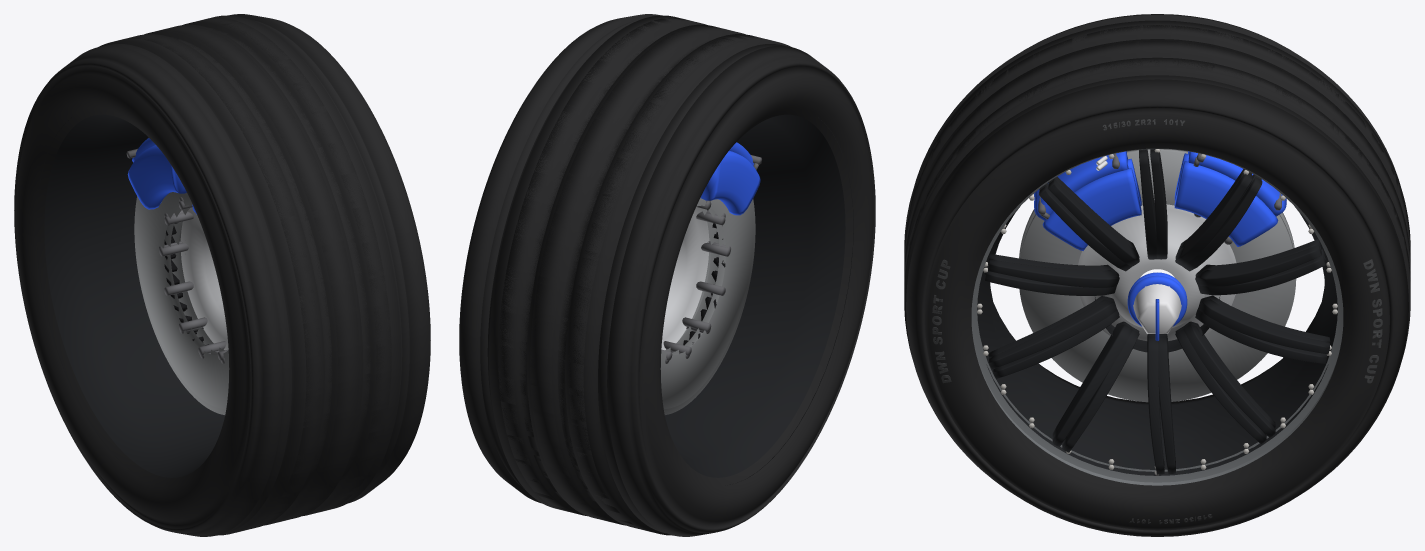
Rendered from aurora-wheel.glb.
3 renders of one model, left to right at view 1: azimuth 30°, elevation 25°; view 2: azimuth 150°, elevation 25°; view 3: azimuth 270°, elevation 25°, orthographic.
Parts seen in each view (by area): view 1: Tyre_R, Tyre_F, Rim_R, Rotor_R, Caliper_FL, Rotor_F, Rim_F; view 2: Tyre_R, Tyre_F, Rim_R, Rotor_R, Caliper_RL, Rotor_F, Rim_F; view 3: Tyre_R, Rim_R, Rotor_F, Tyre_F, Rim_F, Caliper_FR, Caliper_RR.
Boxes of the visible parts, box(x1,y1,x2,y2) form: Tyre_R: box(14, 14, 430, 536); Tyre_F: box(105, 17, 409, 533); Rim_R: box(36, 114, 224, 484); Rotor_R: box(136, 192, 229, 408); Caliper_FL: box(126, 138, 186, 209); Rotor_F: box(134, 196, 226, 414); Rim_F: box(130, 137, 224, 417); Tyre_R: box(459, 14, 875, 536); Tyre_F: box(480, 17, 784, 533); Rim_R: box(665, 114, 853, 484); Rotor_R: box(660, 198, 753, 408); Caliper_RL: box(700, 142, 761, 215); Rotor_F: box(663, 199, 755, 414); Rim_F: box(693, 141, 759, 401); Tyre_R: box(904, 14, 1410, 536); Rim_R: box(971, 148, 1343, 485); Rotor_F: box(1019, 149, 1296, 402); Tyre_F: box(904, 25, 1410, 286); Rim_F: box(977, 149, 1337, 471); Caliper_FR: box(1174, 151, 1286, 246); Caliper_RR: box(1034, 151, 1141, 250).
Bounding box in the file's own units: 0.3249 × 0.73 × 0.73.
